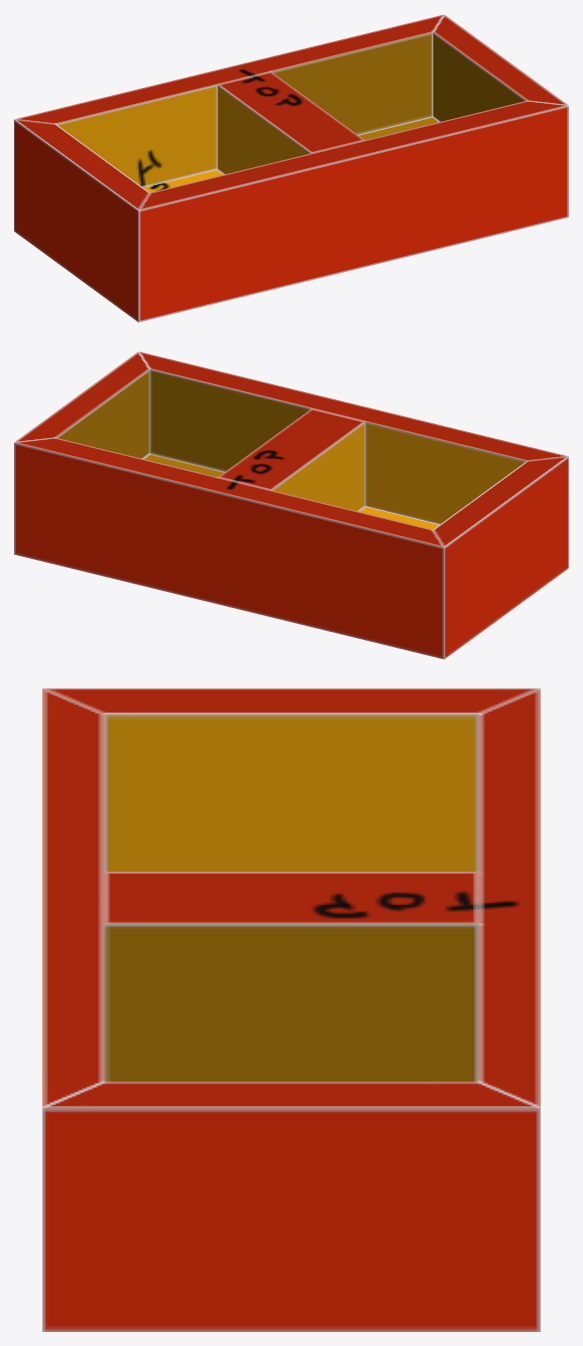
The model's file is hs_dogBowl.fbx.
3 renders of one model, top to bottom at view 1: azimuth 30°, elevation 25°; view 2: azimuth 150°, elevation 25°; view 3: azimuth 270°, elevation 25°, orthographic. The views are drawn at different scales.
Parts seen in each view (by area): view 1: foodandwater_bowl; view 2: foodandwater_bowl; view 3: foodandwater_bowl.
Boxes of the visible parts, x1,y1,x2,y2 form: foodandwater_bowl: [14, 14, 568, 322]; foodandwater_bowl: [14, 351, 568, 659]; foodandwater_bowl: [42, 688, 540, 1331].
Bounding box in the file's own units: 16.01 × 3.98 × 8.03.
